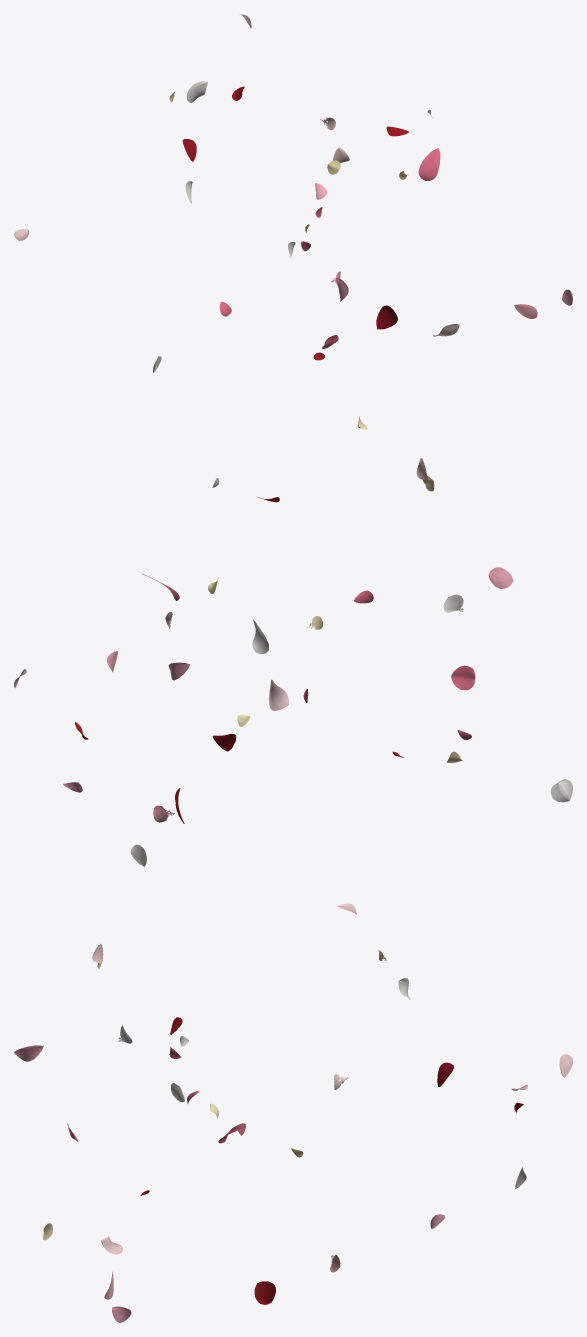
The model's file is falling_petals.glb.
The picture shows the model from 3 angles, top to bottom: view 1: azimuth 30°, elevation 25°; view 2: azimuth 150°, elevation 25°; view 3: azimuth 270°, elevation 25°; orthographic projection. The views are drawn at different scales.
Bounding box in the file's own units: 2.6 × 1.68 × 2.86.
6 materials, 6 textured.
